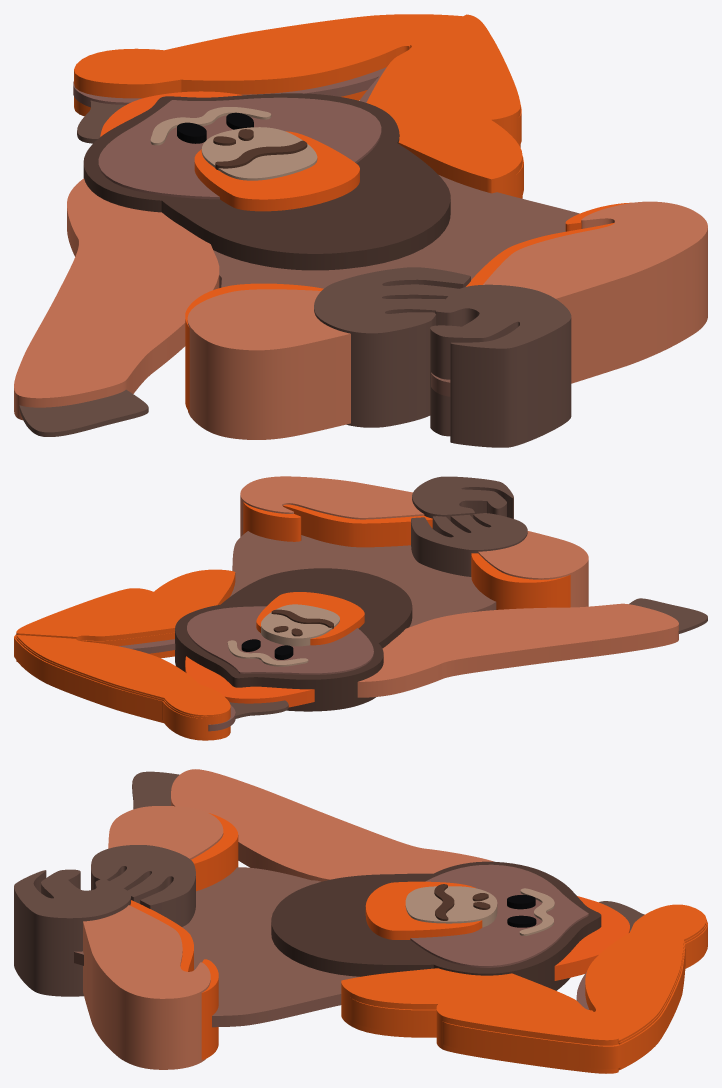
The model's file is emoji_u1f9a7.glb.
3 renders of one model, top to bottom at view 1: azimuth 30°, elevation 25°; view 2: azimuth 150°, elevation 25°; view 3: azimuth 270°, elevation 25°, orthographic. The views are drawn at different scales.
Parts seen in each view (by area): view 1: emoji_u1f9a7; view 2: emoji_u1f9a7; view 3: emoji_u1f9a7.
Boxes of the visible parts, left/top/right/bottom form: emoji_u1f9a7: left=14, top=14, right=707, bottom=447; emoji_u1f9a7: left=14, top=476, right=707, bottom=740; emoji_u1f9a7: left=14, top=769, right=707, bottom=1073.
Size of the model in its own units: 0.0326 by 0.0042 by 0.0336.
